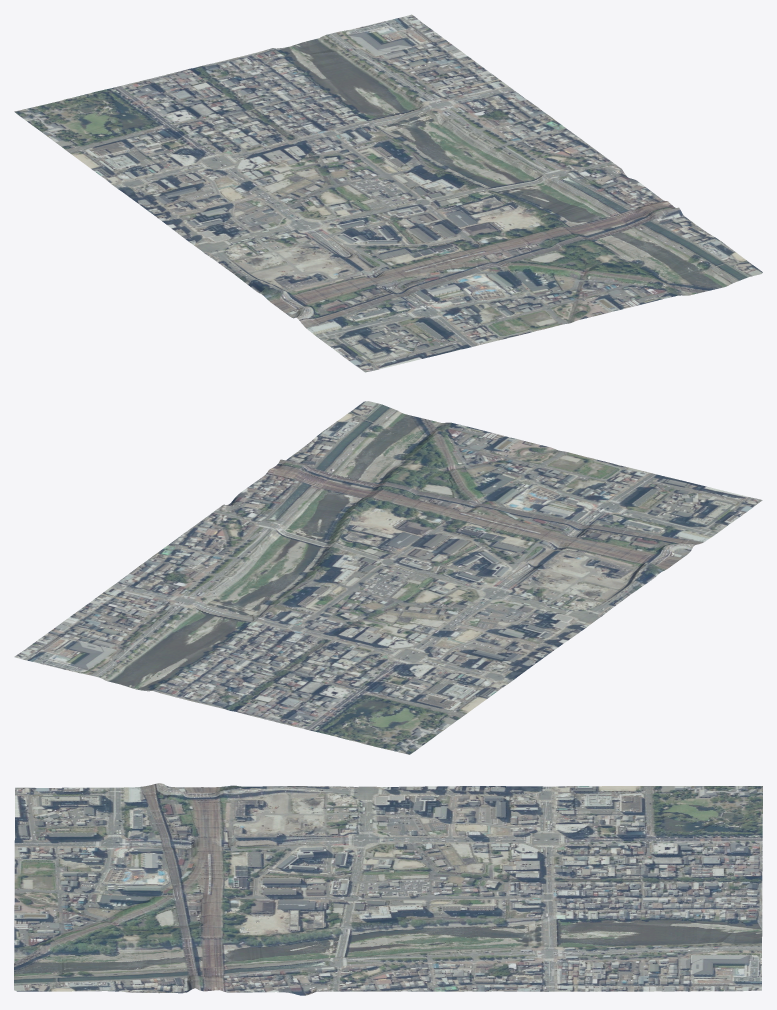
File: ground52353681.glb
3 views of the same model, one above another, from view 1: azimuth 30°, elevation 25°; view 2: azimuth 150°, elevation 25°; view 3: azimuth 270°, elevation 25° (orthographic). The views are drawn at different scales.
Visible parts, largest first — view 1: dem_0dd77b75-5ce6-4090-ad49-39bcb67ab7eb; view 2: dem_0dd77b75-5ce6-4090-ad49-39bcb67ab7eb; view 3: dem_0dd77b75-5ce6-4090-ad49-39bcb67ab7eb.
Boxes of the visible parts, x1,y1,x2,y2 form: dem_0dd77b75-5ce6-4090-ad49-39bcb67ab7eb: (14, 14, 762, 372); dem_0dd77b75-5ce6-4090-ad49-39bcb67ab7eb: (14, 401, 762, 754); dem_0dd77b75-5ce6-4090-ad49-39bcb67ab7eb: (14, 783, 762, 995).
Bounding box in the file's own units: 604 × 13.96 × 926.
Materials: 1 (1 with a texture image).
